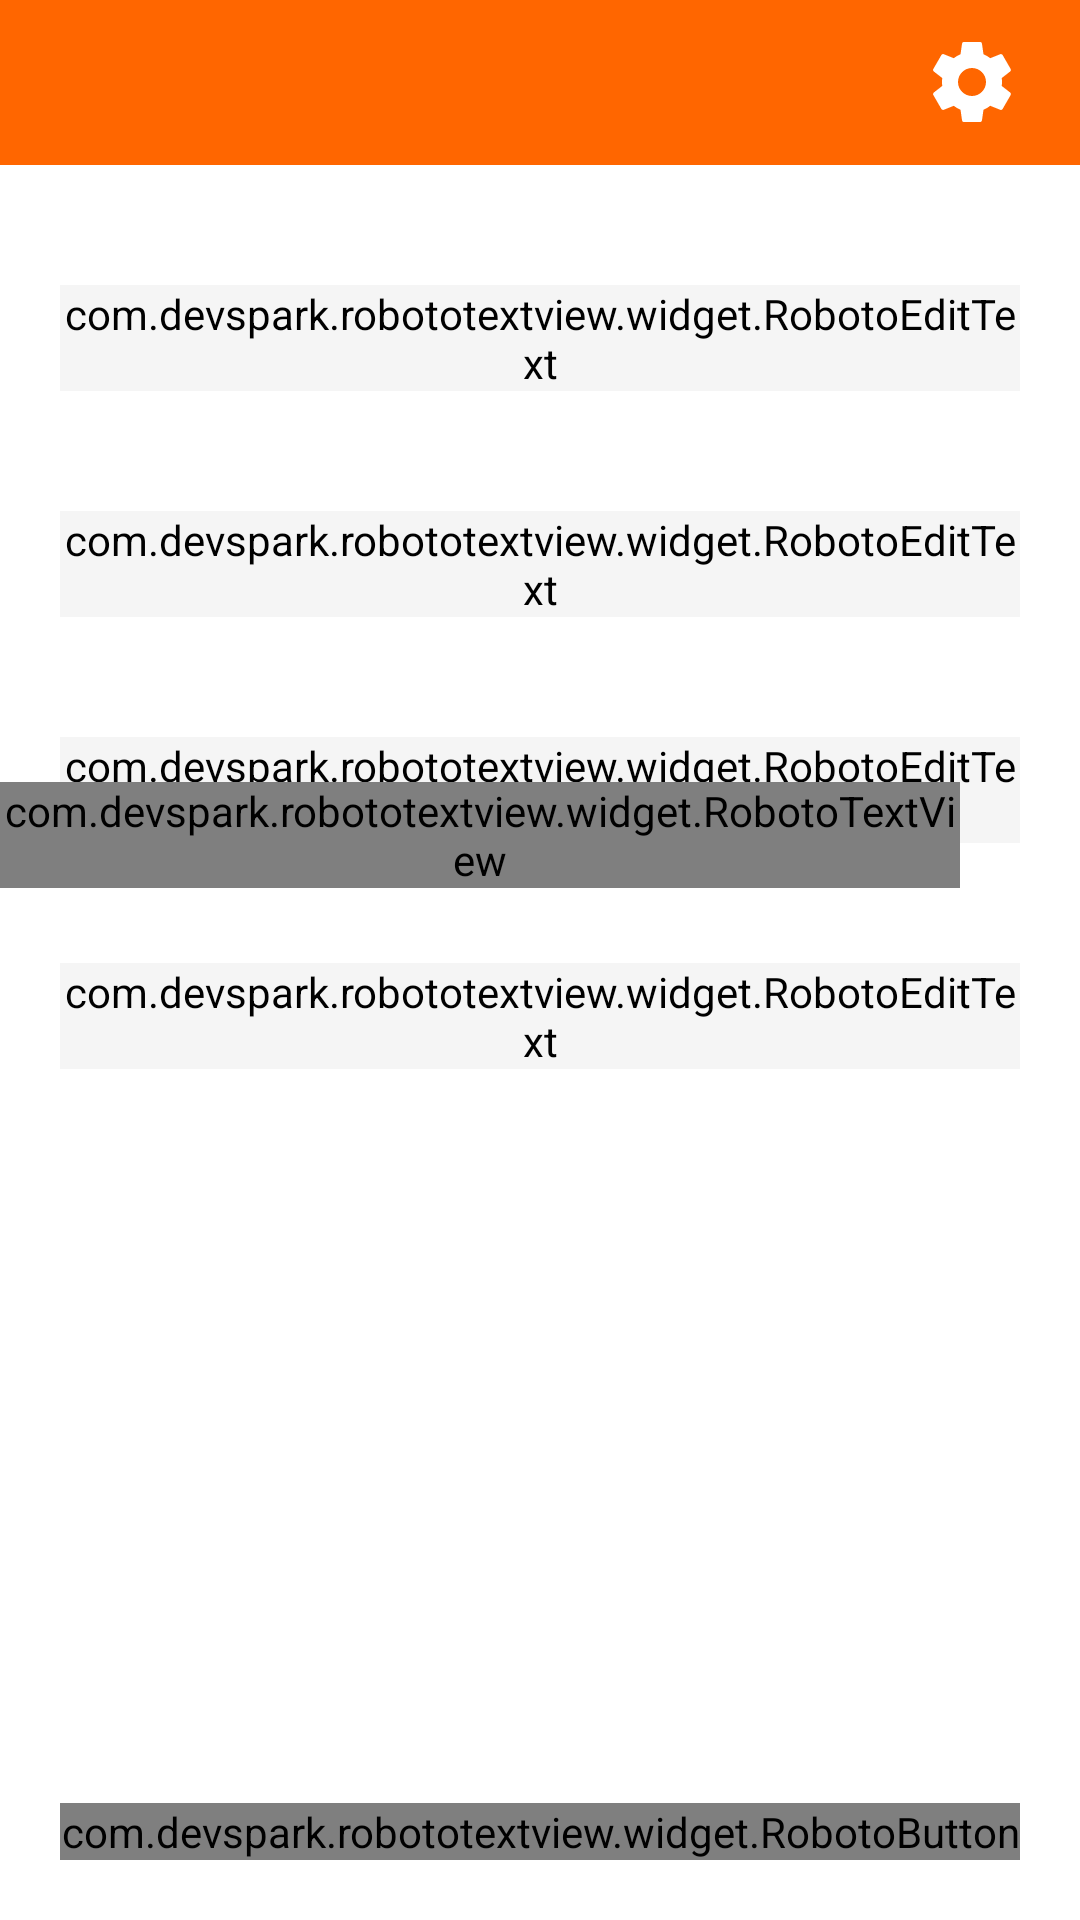

Where to tap for icons on this 1080x1920 app screen, as [x,y]:
settings: [972,82]
